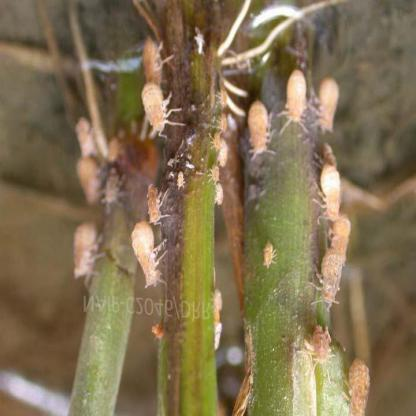brown-planthopper: (130, 223, 161, 288), (244, 97, 273, 158), (70, 218, 96, 282), (346, 356, 371, 416), (284, 66, 308, 126), (318, 162, 342, 222), (141, 84, 169, 134), (319, 247, 341, 308), (318, 76, 340, 130), (308, 323, 332, 367), (144, 182, 163, 219), (261, 241, 276, 272), (208, 162, 220, 184), (217, 84, 228, 108), (174, 172, 186, 192), (210, 133, 222, 152), (215, 185, 223, 208)
